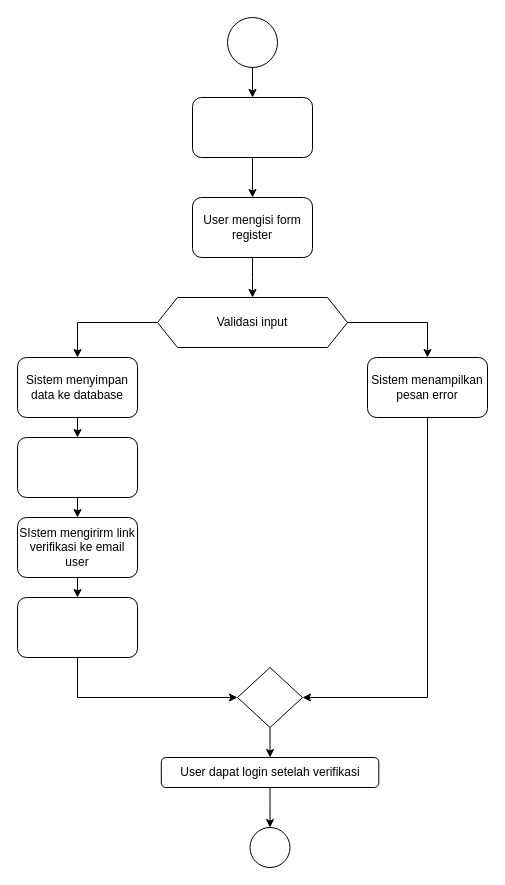
The diagram is 505 pixels wide and 885 high, and some of its shapes have lost their labels. The shapes that lost their labels are listed below. From the top down, each one's centre as x and y in pixels, then its label:
point (252, 127): User membuka halaman register
point (77, 467): Menampilkan pesan "Register berhasil"
point (77, 627): User melakukan verifikasi email
